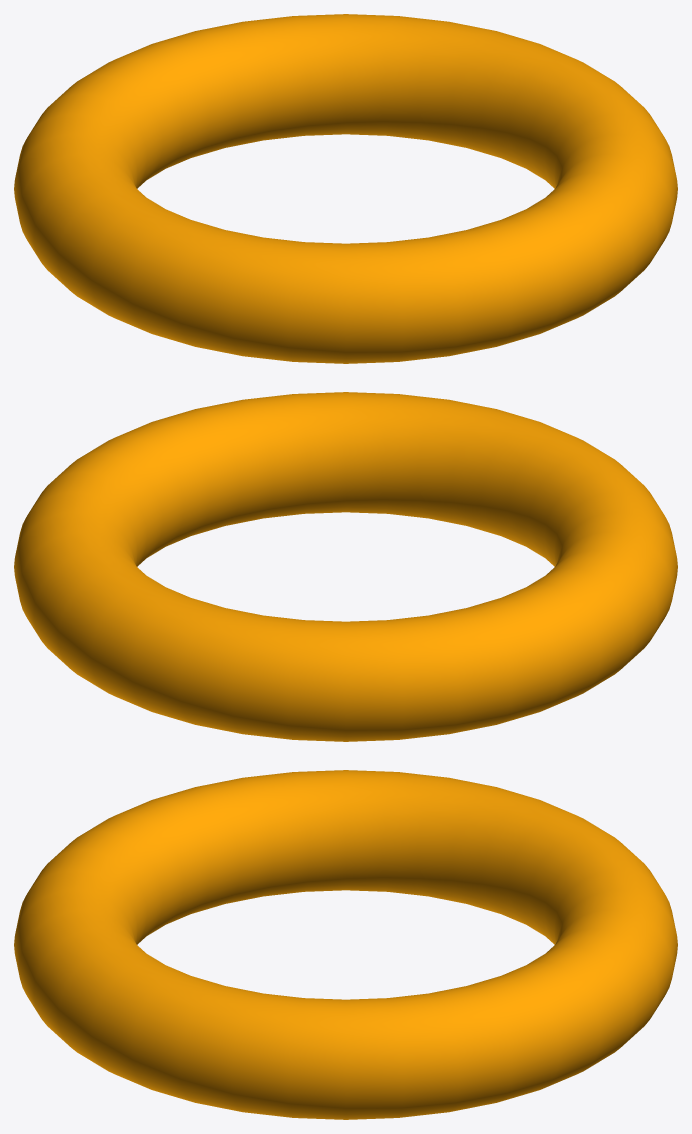
The picture shows the model from 3 angles, top to bottom: view 1: azimuth 30°, elevation 25°; view 2: azimuth 150°, elevation 25°; view 3: azimuth 270°, elevation 25°; orthographic projection.
Visible parts, largest first — view 1: Crystal; view 2: Crystal; view 3: Crystal.
Boxes of the visible parts, x1=… form: Crystal: x1=14, y1=14, x2=677, y2=363; Crystal: x1=14, y1=392, x2=677, y2=741; Crystal: x1=14, y1=770, x2=677, y2=1119.
Bounding box in the file's own units: 0.2794 × 0.0508 × 0.2794.
